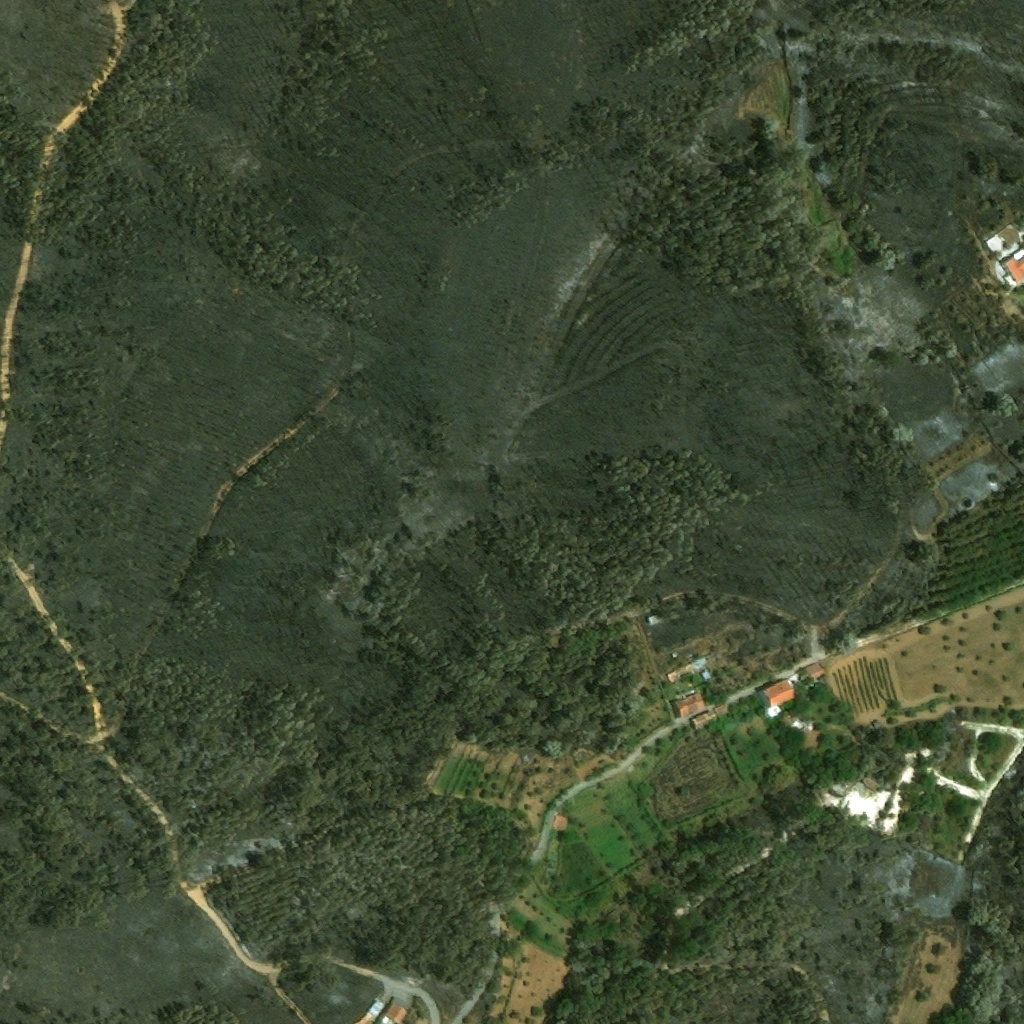0 no-damage: (753, 674, 797, 718), (663, 655, 707, 684), (669, 692, 706, 720), (799, 661, 825, 681), (646, 615, 658, 624)
4 un-classified: (351, 997, 407, 1023), (997, 247, 1023, 283)
